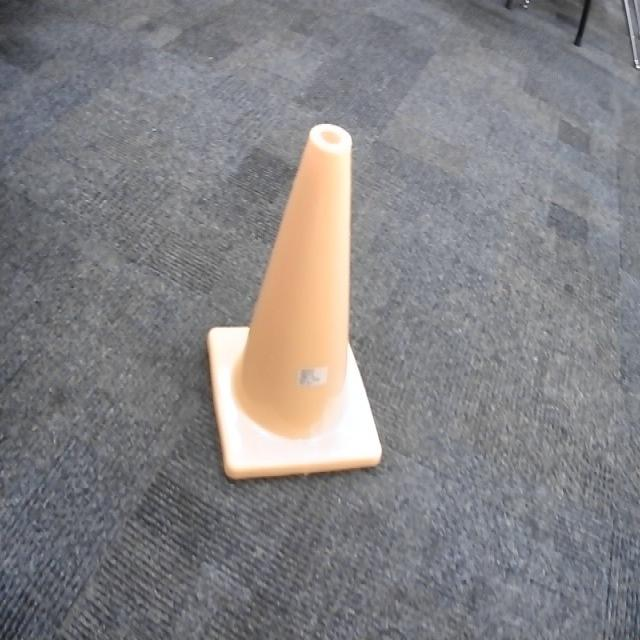cone: (206, 122, 386, 483)
